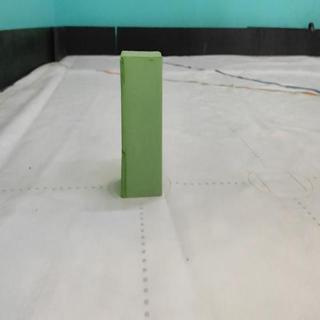greenbox: (119, 49, 164, 198)
